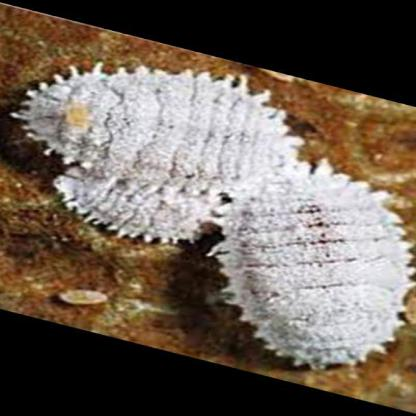mealy bug: (218, 164, 413, 366), (34, 71, 300, 191), (58, 164, 215, 239)
